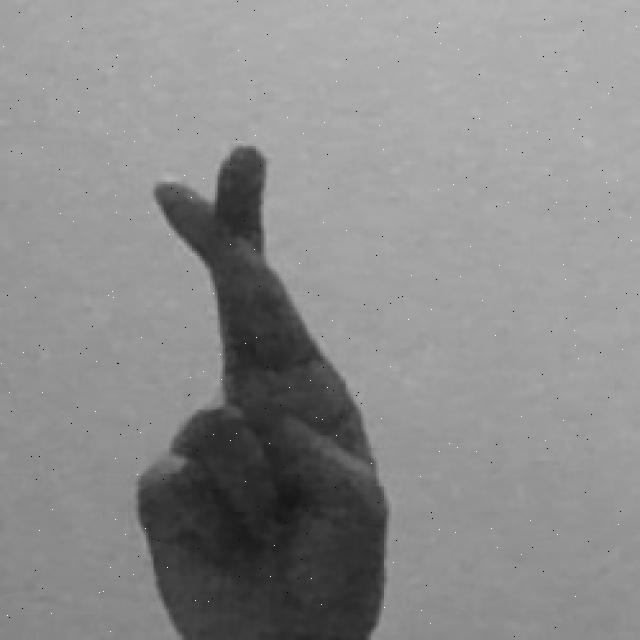R: (132, 140, 398, 640)
